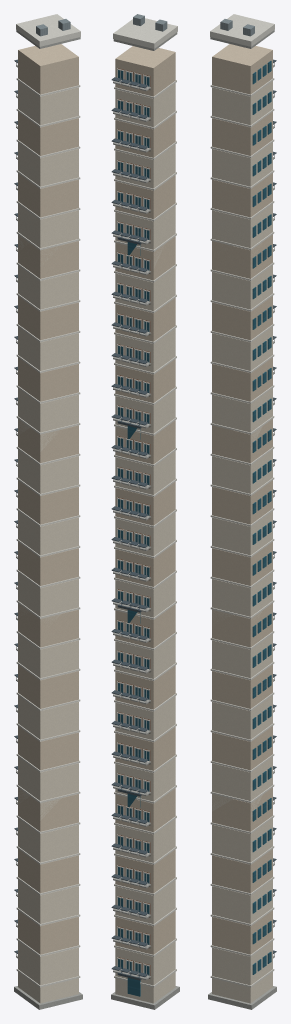
File: residential_tower_75m.gltf
3 renders of one model, left to right at view 1: azimuth 30°, elevation 25°; view 2: azimuth 150°, elevation 25°; view 3: azimuth 330°, elevation 25°, orthographic.
Parts seen in each view (by area): view 1: apartment_root; view 2: apartment_root; view 3: apartment_root.
Boxes of the visible parts, x1=… form: apartment_root: x1=14, y1=14, x2=82, y2=1009; apartment_root: x1=111, y1=14, x2=179, y2=1009; apartment_root: x1=208, y1=14, x2=276, y2=1009.
Bounding box in the file's own units: 3.5 × 74.57 × 4.15.
9 materials, 9 textured.
